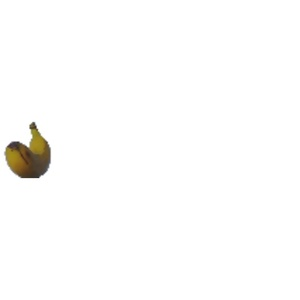banana: (6, 119, 55, 182)
